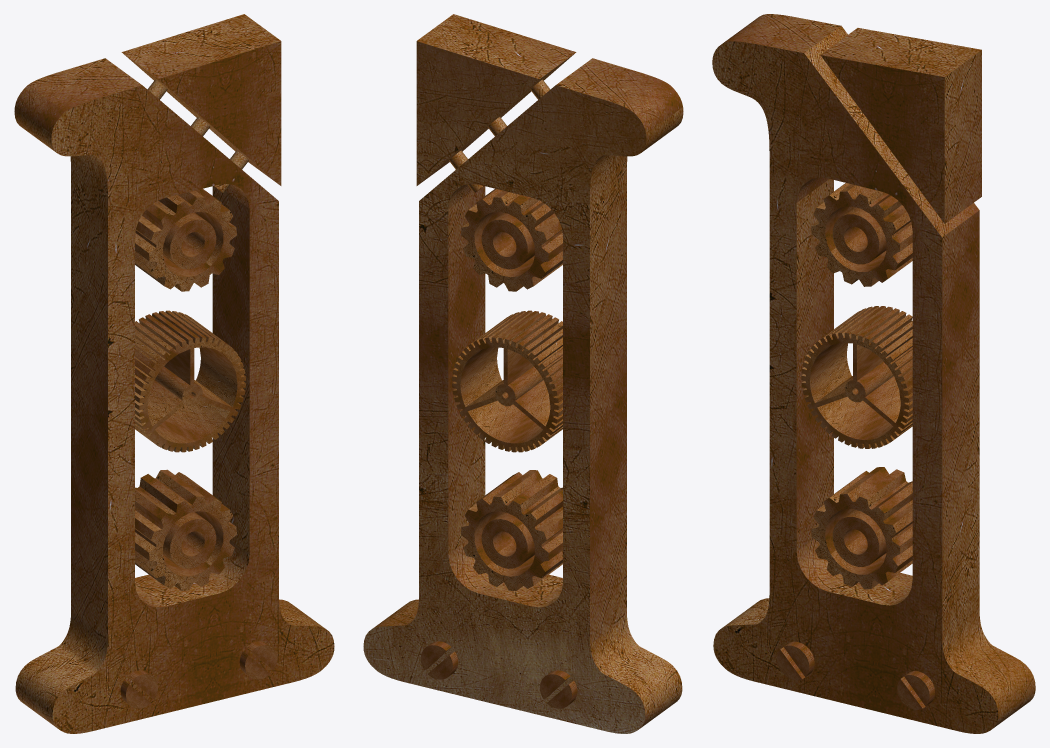
The picture shows the model from 3 angles, left to right: view 1: azimuth 30°, elevation 25°; view 2: azimuth 150°, elevation 25°; view 3: azimuth 330°, elevation 25°; orthographic projection.
Parts seen in each view (by area): view 1: 050, Cogwheel_429, Cogwheel_427, Cogwheel_428, Screw_709, Screw_702; view 2: 050, Cogwheel_429, Cogwheel_427, Cogwheel_428, Screw_702, Screw_709; view 3: 050, Cogwheel_429, Cogwheel_427, Cogwheel_428, Screw_709, Screw_702.
Boxes of the visible parts, x1,y1,x2,y2 form: 050: (14, 14, 334, 733); Cogwheel_429: (135, 310, 245, 452); Cogwheel_427: (135, 469, 236, 590); Cogwheel_428: (135, 188, 236, 291); Screw_709: (120, 670, 158, 708); Screw_702: (239, 641, 277, 679); 050: (363, 14, 683, 733); Cogwheel_429: (452, 310, 562, 452); Cogwheel_427: (461, 470, 562, 590); Cogwheel_428: (461, 188, 562, 291); Screw_702: (420, 641, 458, 679); Screw_709: (539, 670, 577, 708); 050: (712, 14, 1035, 733); Cogwheel_429: (801, 306, 912, 448); Cogwheel_427: (811, 467, 912, 589); Cogwheel_428: (811, 183, 912, 286); Screw_709: (776, 641, 814, 680); Screw_702: (897, 671, 934, 709).
Bounding box in the file's own units: 44.2 × 96.1 × 12.89.
Materials: 1 (1 with a texture image).
